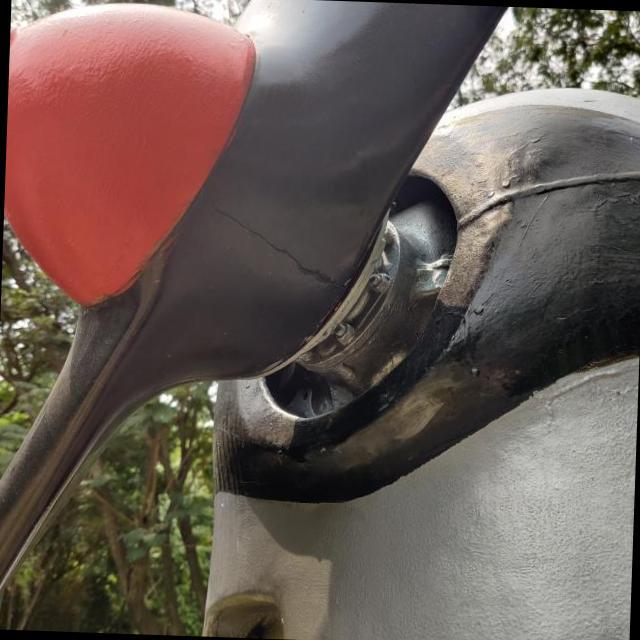Rupture: (188, 195, 364, 302)
